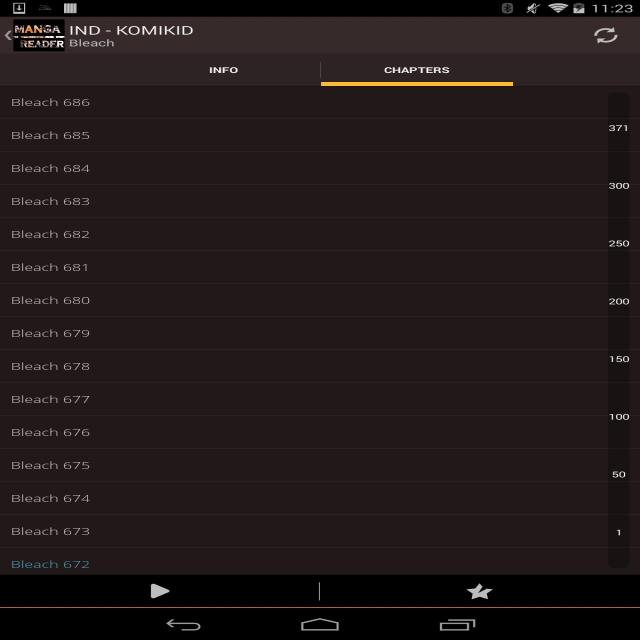button: (1, 575, 319, 607), (320, 575, 636, 607), (322, 58, 516, 86), (171, 58, 316, 84), (3, 454, 116, 477), (0, 422, 118, 442), (2, 390, 114, 411), (4, 490, 115, 510), (4, 291, 109, 312), (4, 520, 104, 542), (4, 224, 102, 246), (4, 257, 102, 279), (5, 554, 110, 574), (4, 357, 107, 376), (4, 191, 100, 211), (2, 125, 96, 145), (4, 323, 106, 341), (8, 93, 95, 112), (8, 157, 95, 176), (583, 23, 631, 47), (0, 20, 17, 50)
heading: (68, 22, 197, 37)
image: (16, 21, 64, 51)
text: (67, 37, 128, 51)
